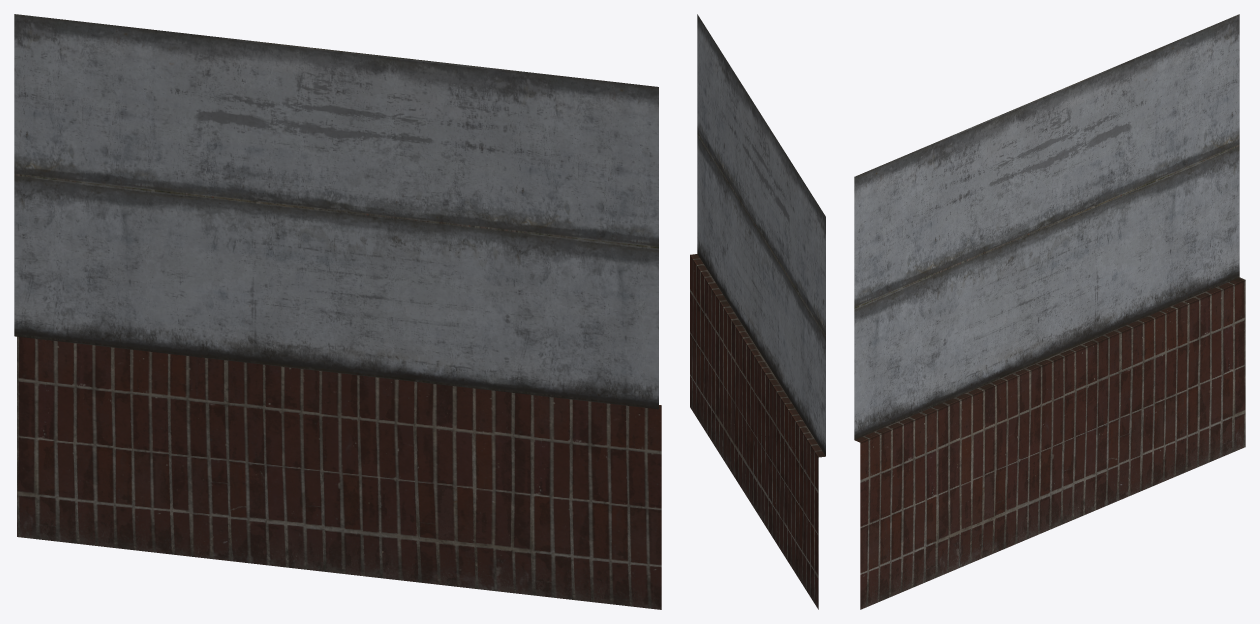
The model's file is Psychiatric_Ward_Guards_Room_Interior_Wall_45_Degree.glb.
The picture shows the model from 3 angles, left to right: view 1: azimuth 30°, elevation 25°; view 2: azimuth 150°, elevation 25°; view 3: azimuth 270°, elevation 25°; orthographic projection. The views are drawn at different scales.
Parts seen in each view (by area): view 1: Psychiatric_Ward_Guards_Room_Interior_Wall_45_Degree; view 2: Psychiatric_Ward_Guards_Room_Interior_Wall_45_Degree; view 3: Psychiatric_Ward_Guards_Room_Interior_Wall_45_Degree.
Part boxes in pixels (left/top/right/bottom): Psychiatric_Ward_Guards_Room_Interior_Wall_45_Degree: left=14, top=14, right=661, bottom=609; Psychiatric_Ward_Guards_Room_Interior_Wall_45_Degree: left=690, top=14, right=825, bottom=609; Psychiatric_Ward_Guards_Room_Interior_Wall_45_Degree: left=854, top=14, right=1245, bottom=609.
Bounding box in the file's own units: 2.03 × 2.47 × 2.03.
Materials: 1 (1 with a texture image).
